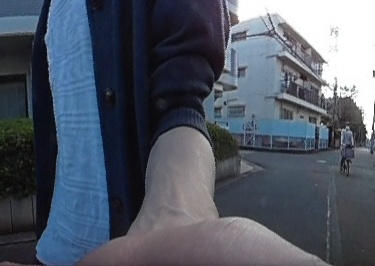person: (339, 118, 354, 165)
